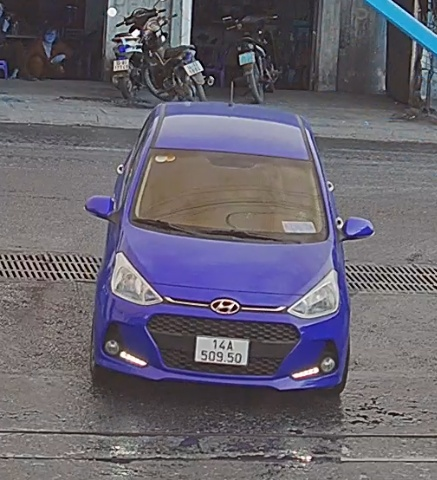vehicle plate: (191, 330, 252, 375)
